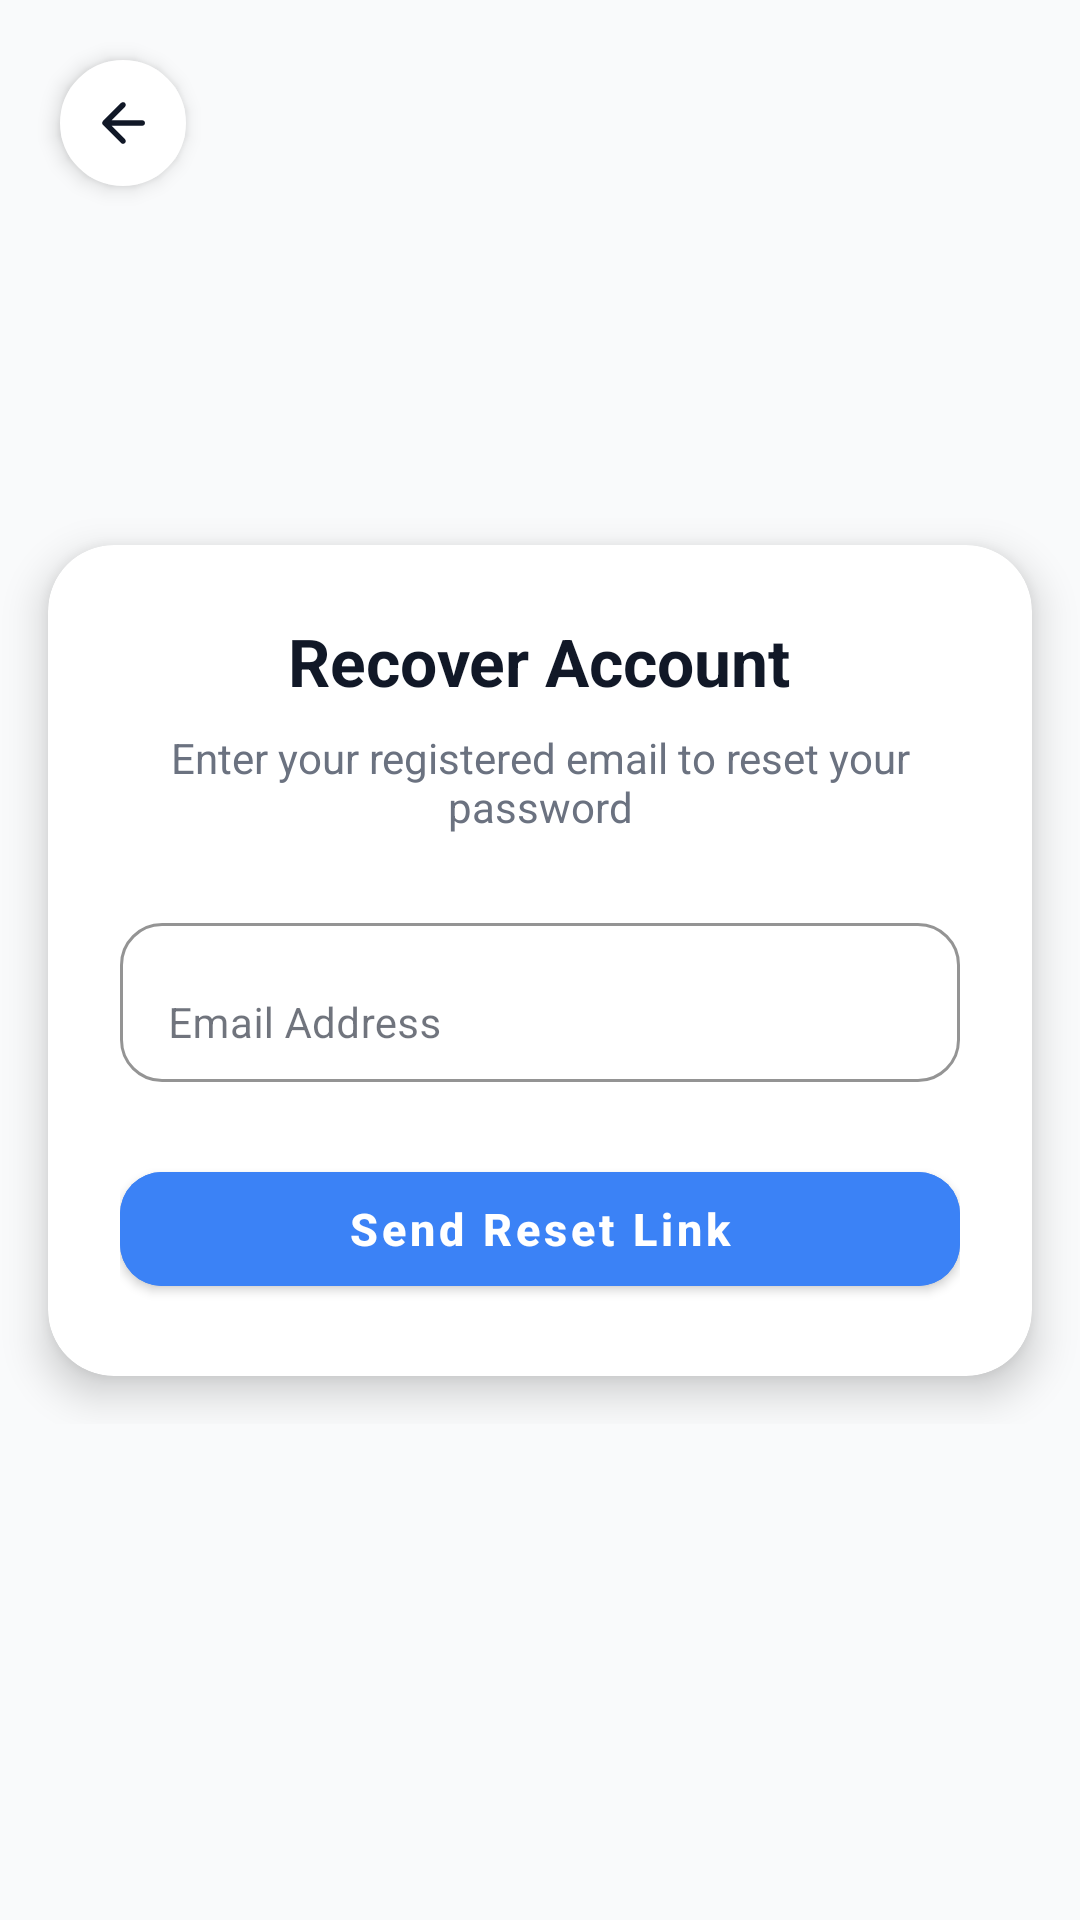

Point at icon controls on the screen. Image size 1080px x 1920px, points as point (x, y).
Back: point (109, 123)
